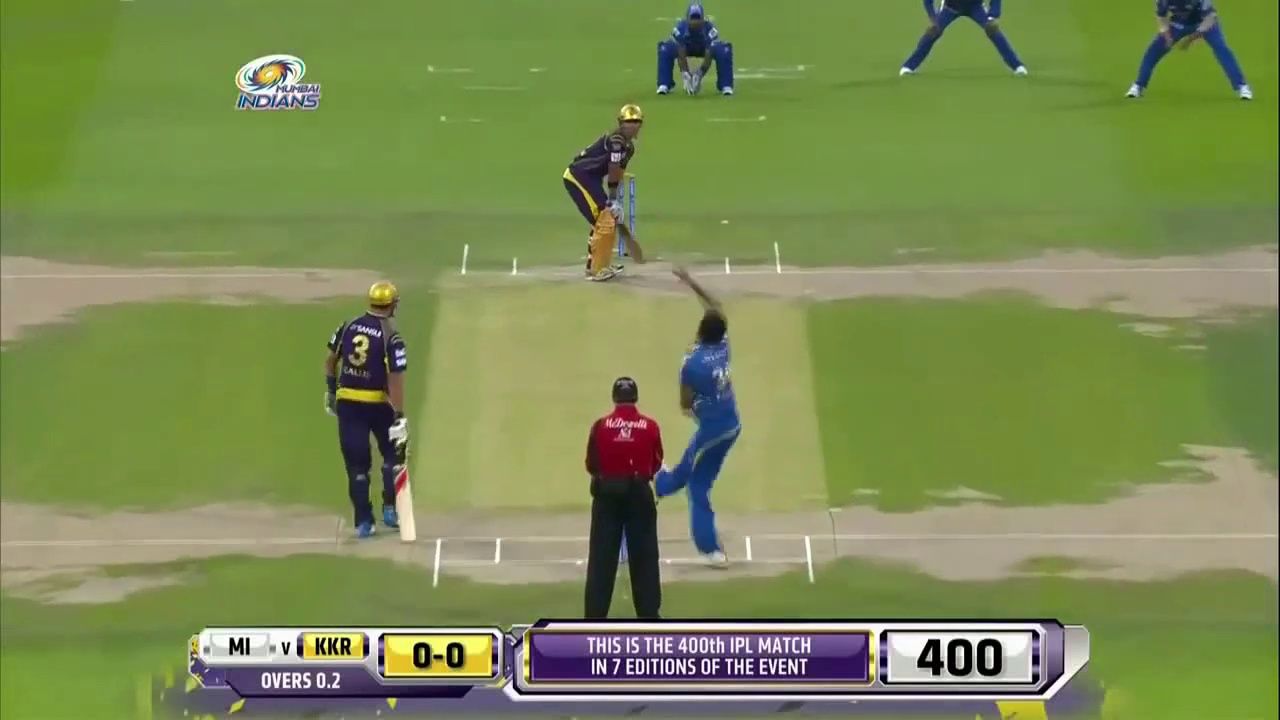bat: (392, 463, 419, 543), (618, 226, 648, 265)
